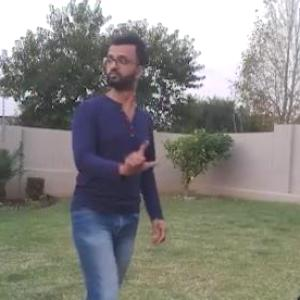land_hand: (122, 127, 162, 181)
